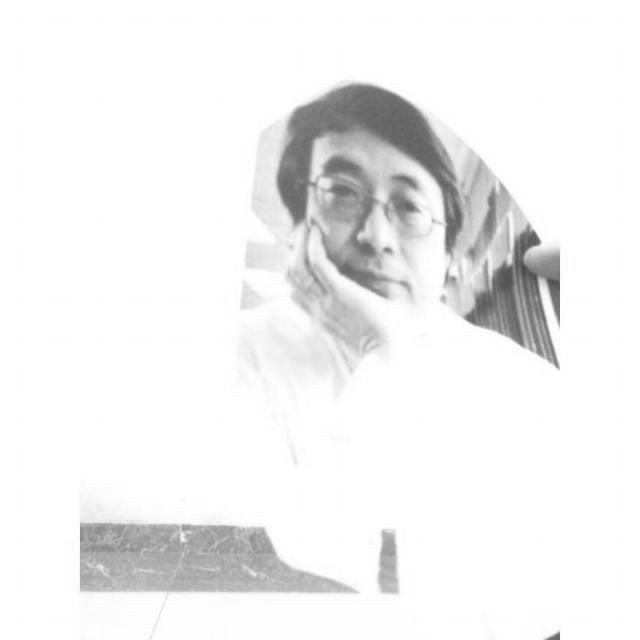fake: (225, 69, 559, 639)
